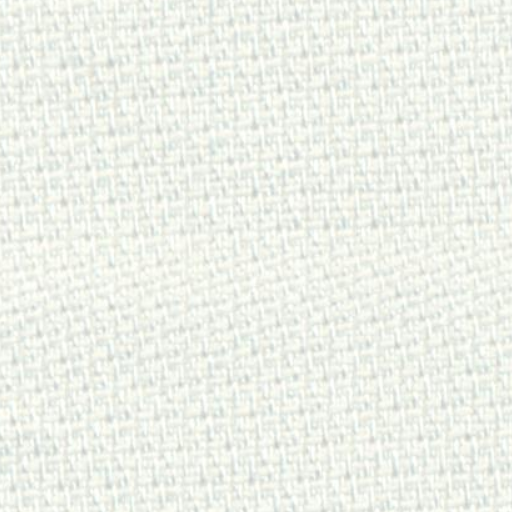TuoSha: (24, 194, 492, 434)
